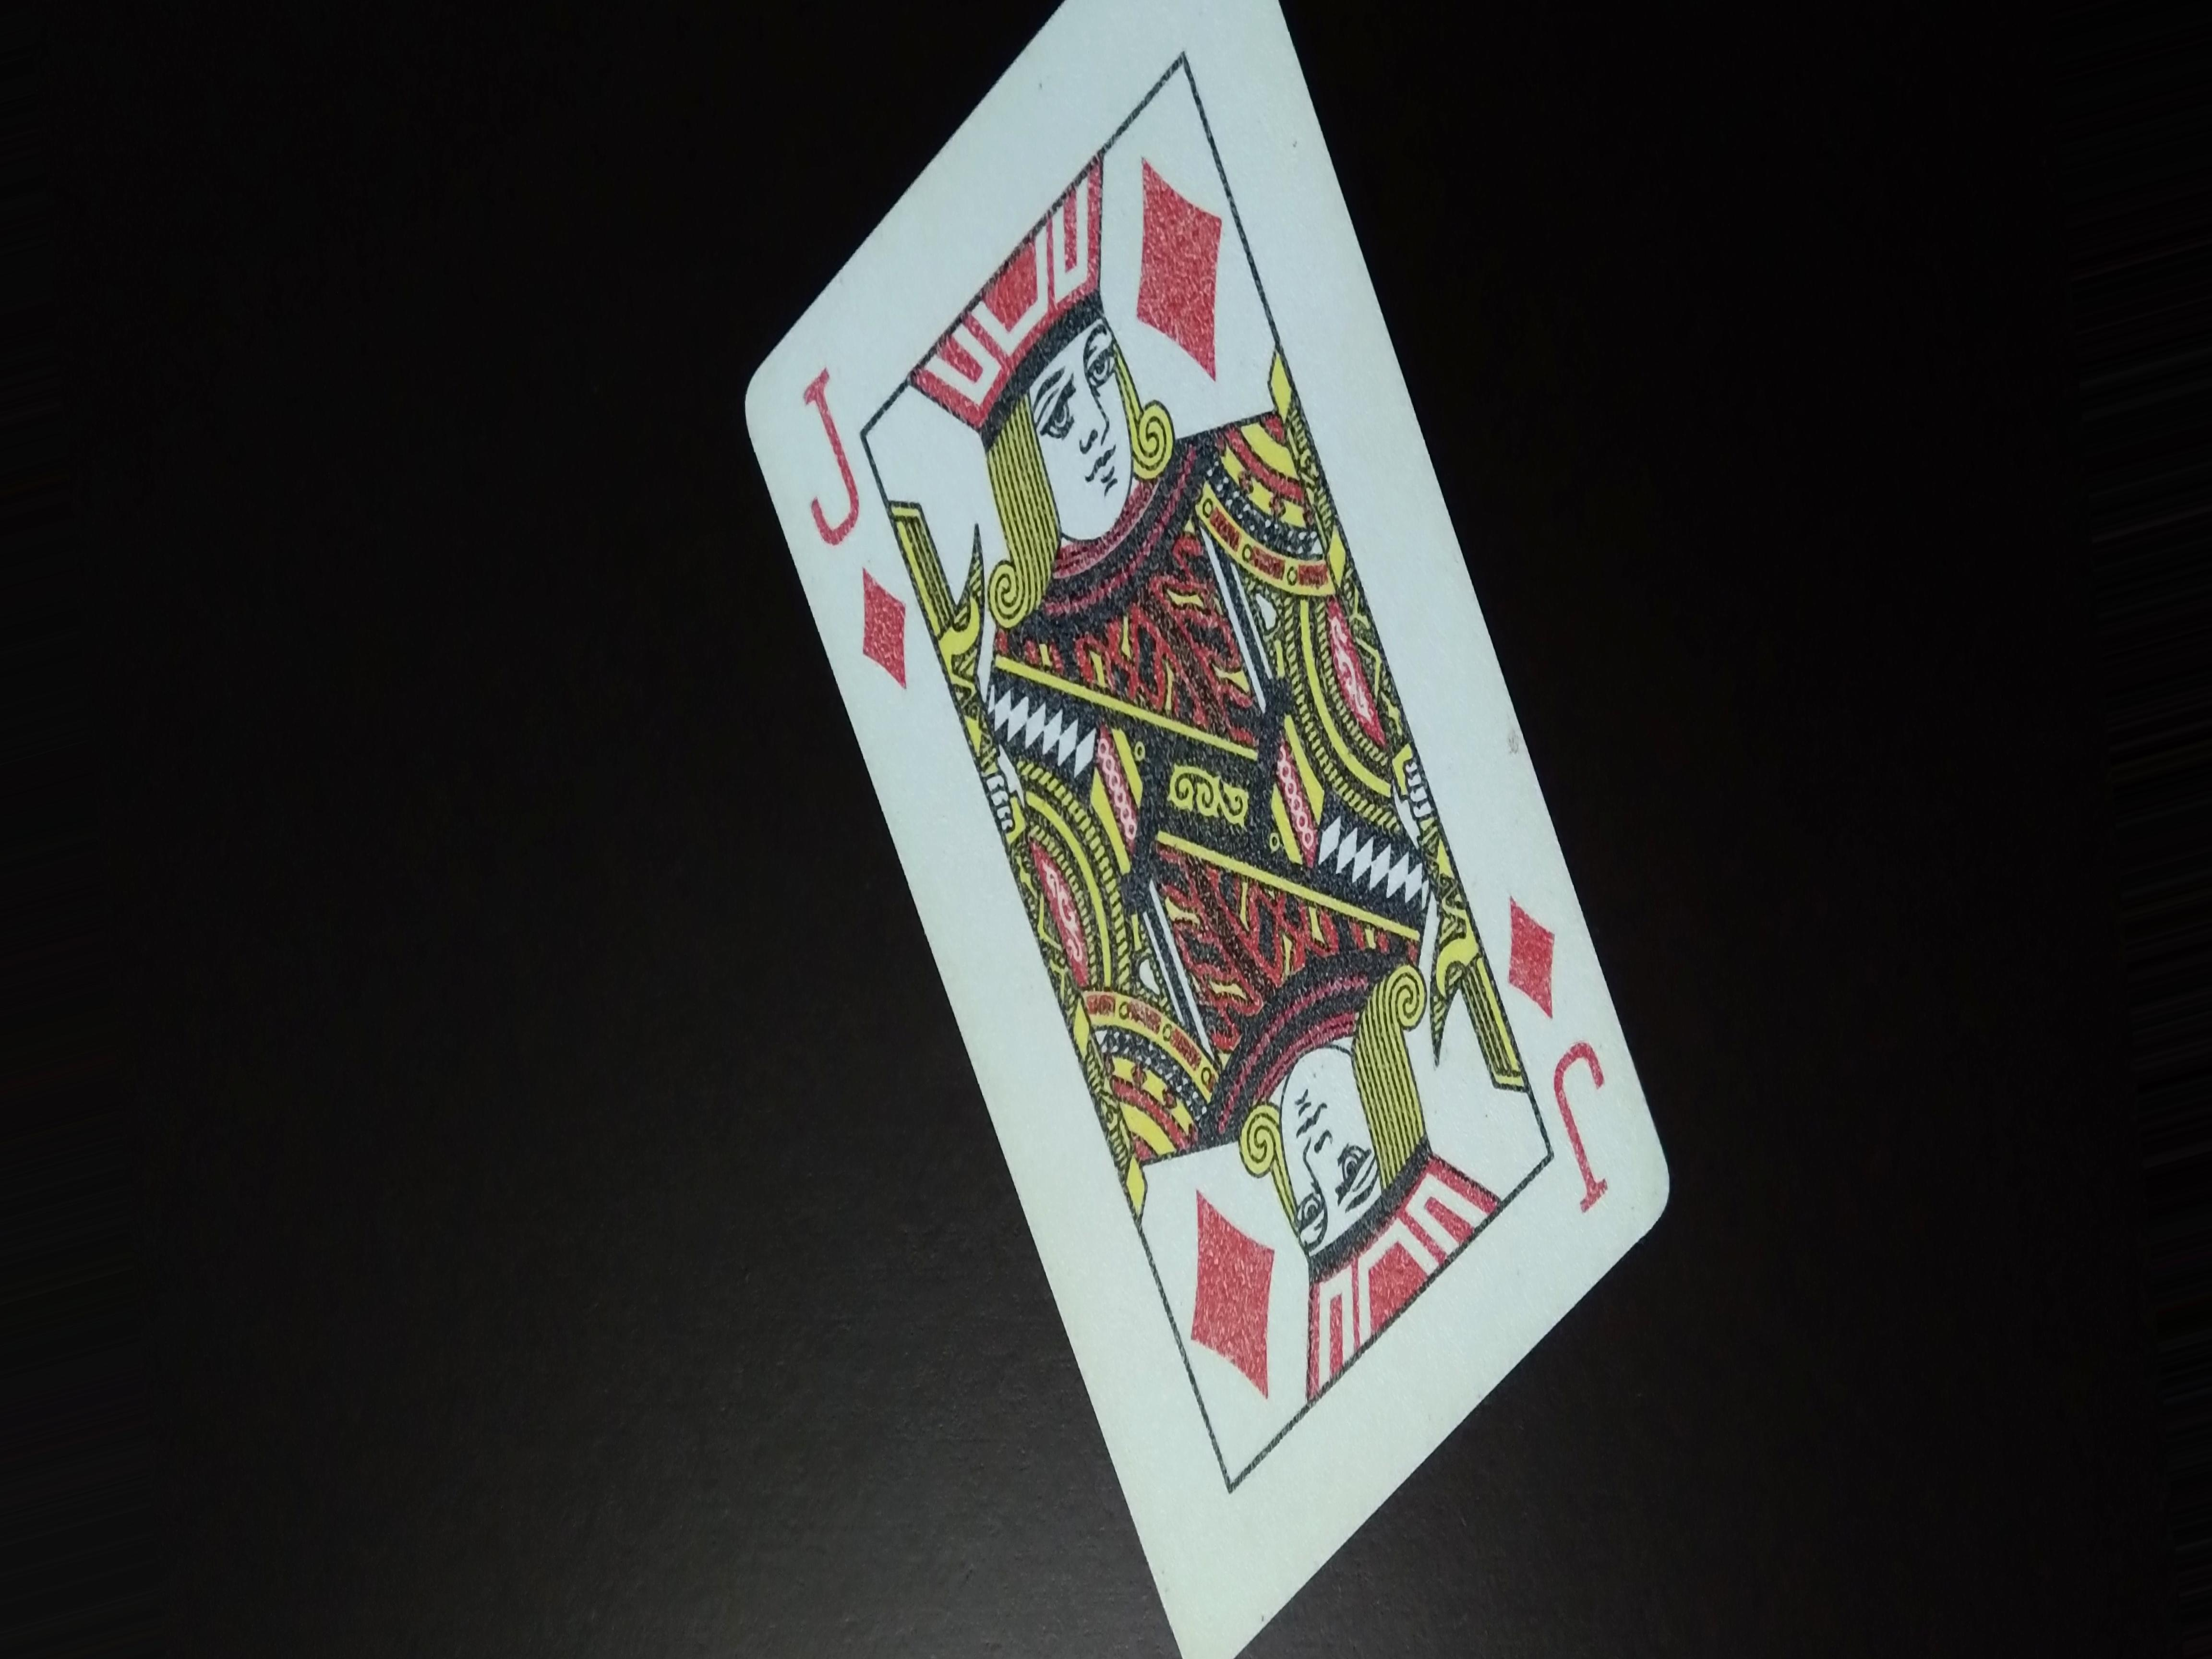JD: (794, 350, 939, 734)
